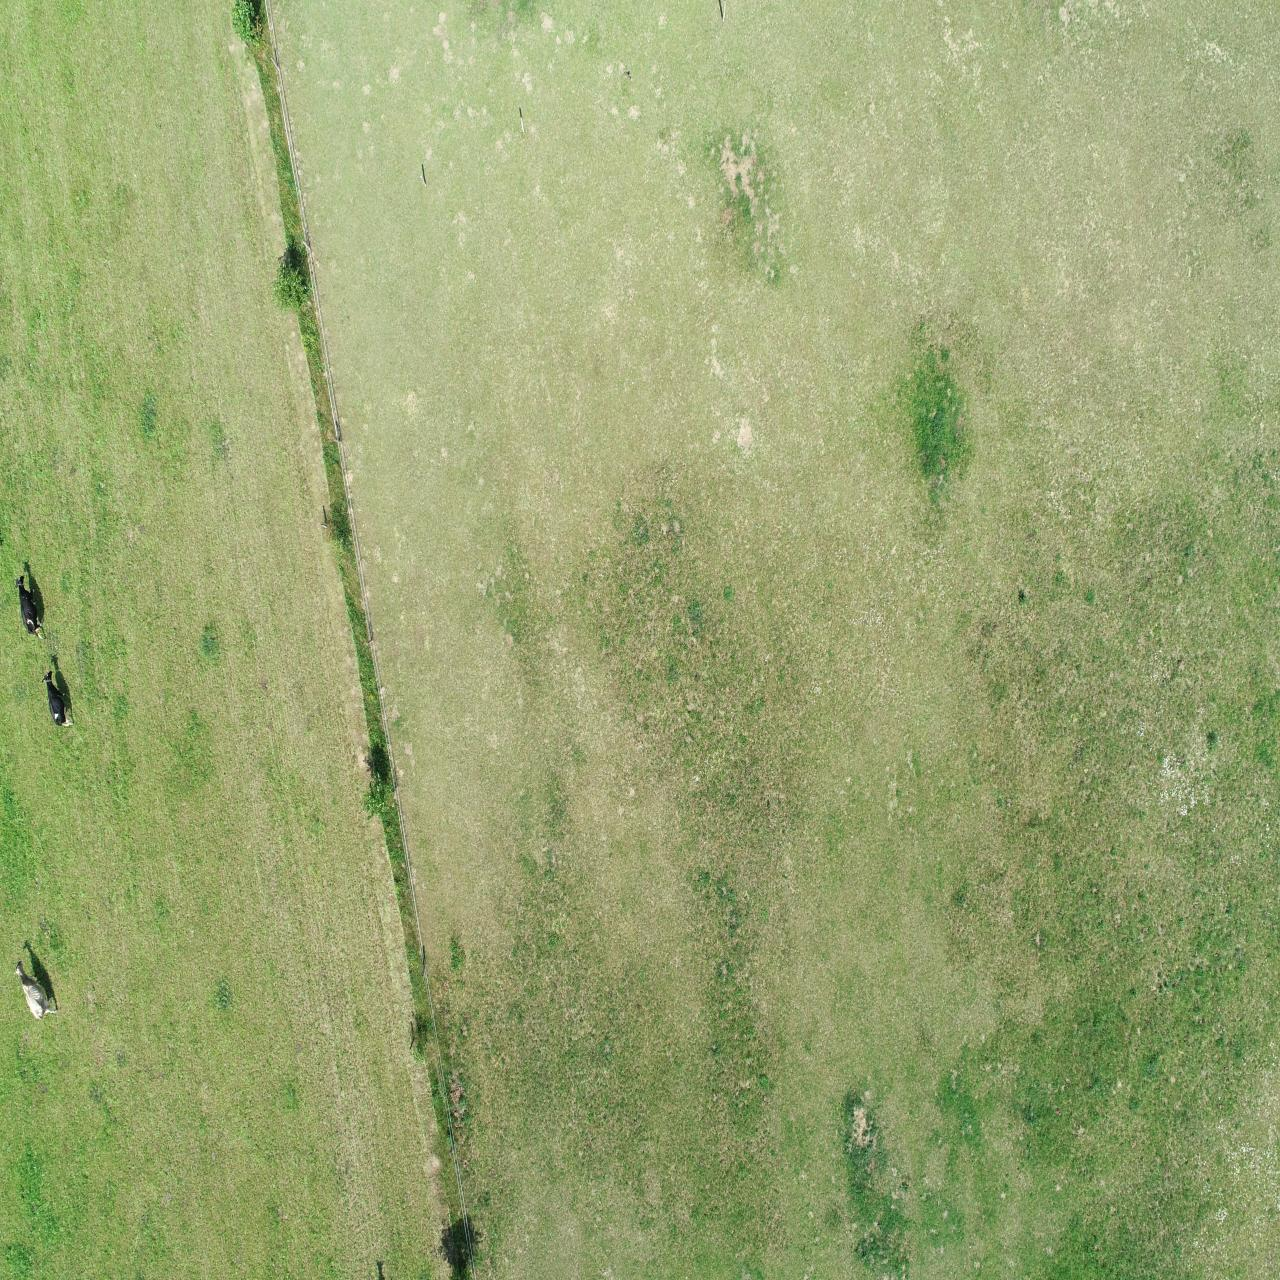cow: (12, 573, 46, 642), (41, 669, 75, 730)
